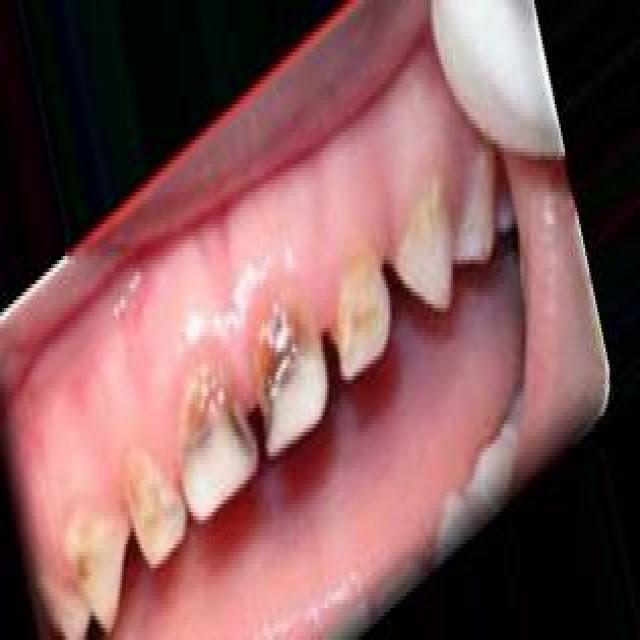caries: (176, 365, 258, 517), (261, 300, 333, 461), (128, 454, 190, 573), (67, 519, 132, 631), (341, 258, 394, 390)
